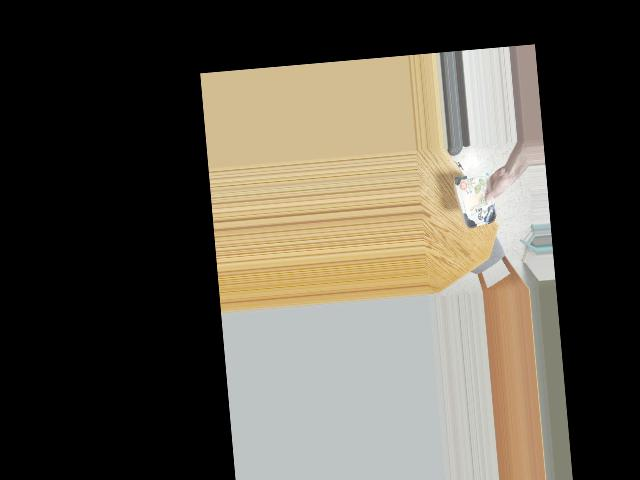cheese: (460, 176, 495, 227)
